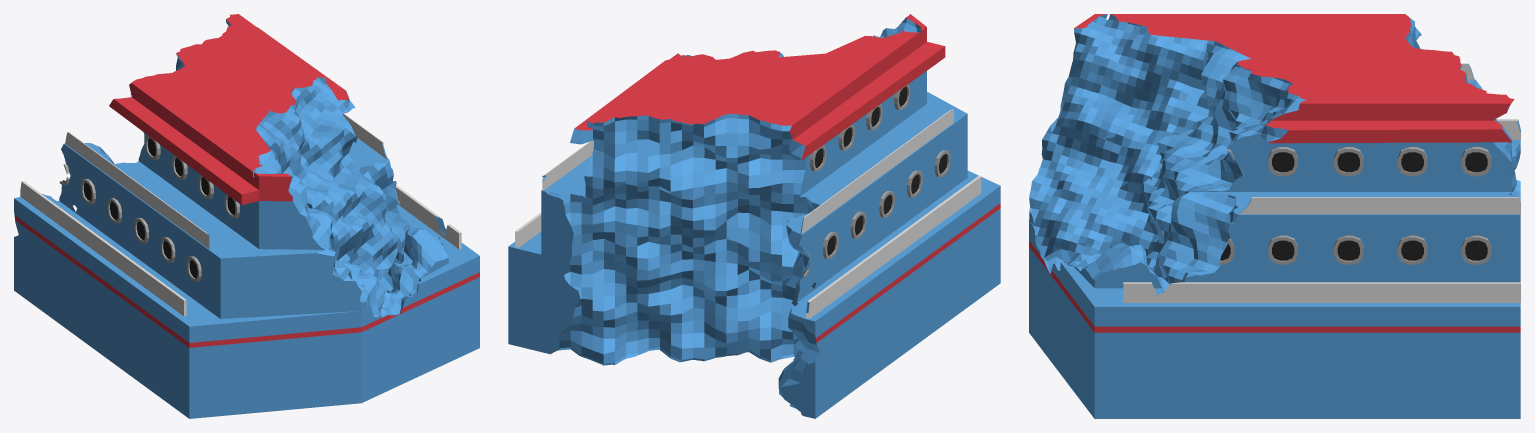
Rendered from shipwreckBack.fbx.
The picture shows the model from 3 angles, left to right: view 1: azimuth 30°, elevation 25°; view 2: azimuth 150°, elevation 25°; view 3: azimuth 270°, elevation 25°; orthographic projection. The views are drawn at different scales.
Parts seen in each view (by area): view 1: shipwreckBack; view 2: shipwreckBack; view 3: shipwreckBack.
Part boxes in pixels (x1,y1,x2,y2): shipwreckBack: [14, 14, 479, 418]; shipwreckBack: [508, 14, 1000, 418]; shipwreckBack: [1029, 14, 1520, 418].
Size of the model in its own units: 314 by 233 by 379.
